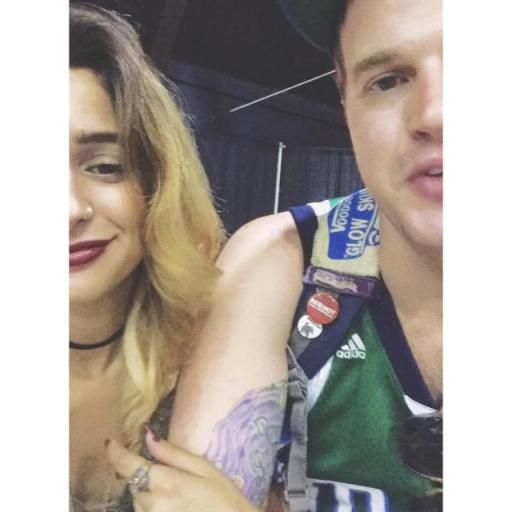Adidas: (334, 330, 368, 360)
